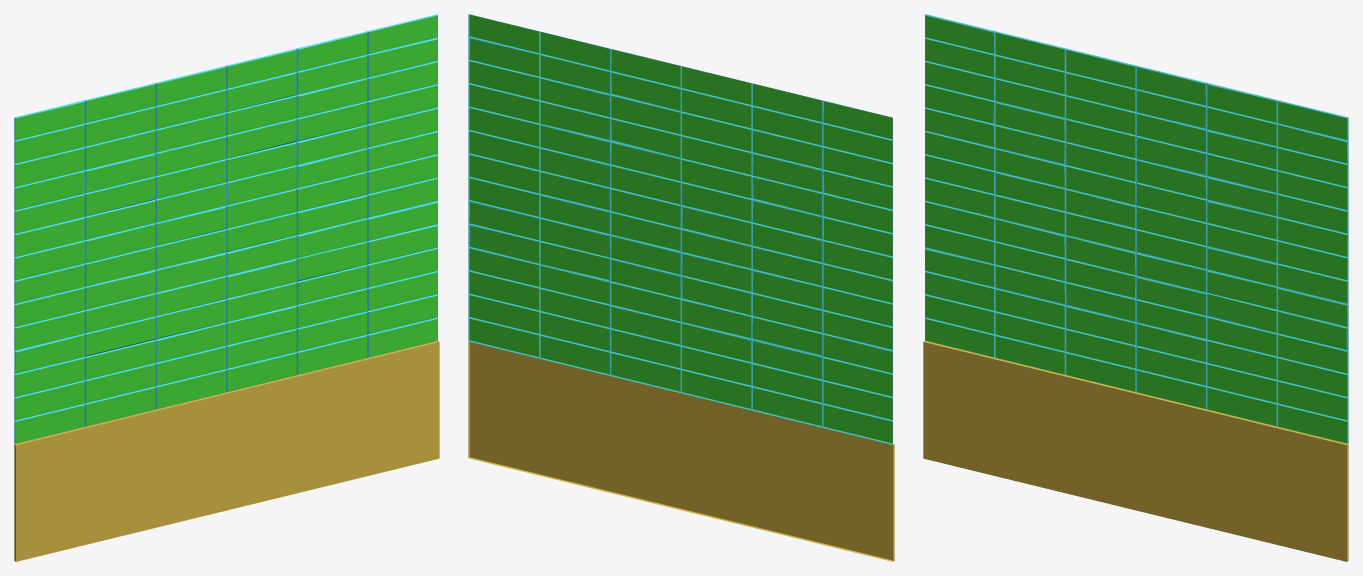
Rendered from Wall_41_C.fbx.
3 views of the same model, side by side, from view 1: azimuth 30°, elevation 25°; view 2: azimuth 150°, elevation 25°; view 3: azimuth 330°, elevation 25° (orthographic).
Parts seen in each view (by area): view 1: Wall_41_C; view 2: Wall_41_C; view 3: Wall_41_C.
Part boxes in pixels (x1,y1,x2,y2): Wall_41_C: (14,14,439,561); Wall_41_C: (468,14,894,561); Wall_41_C: (923,14,1348,561).
Bounding box in the file's own units: 457 × 457 × 2.96.
